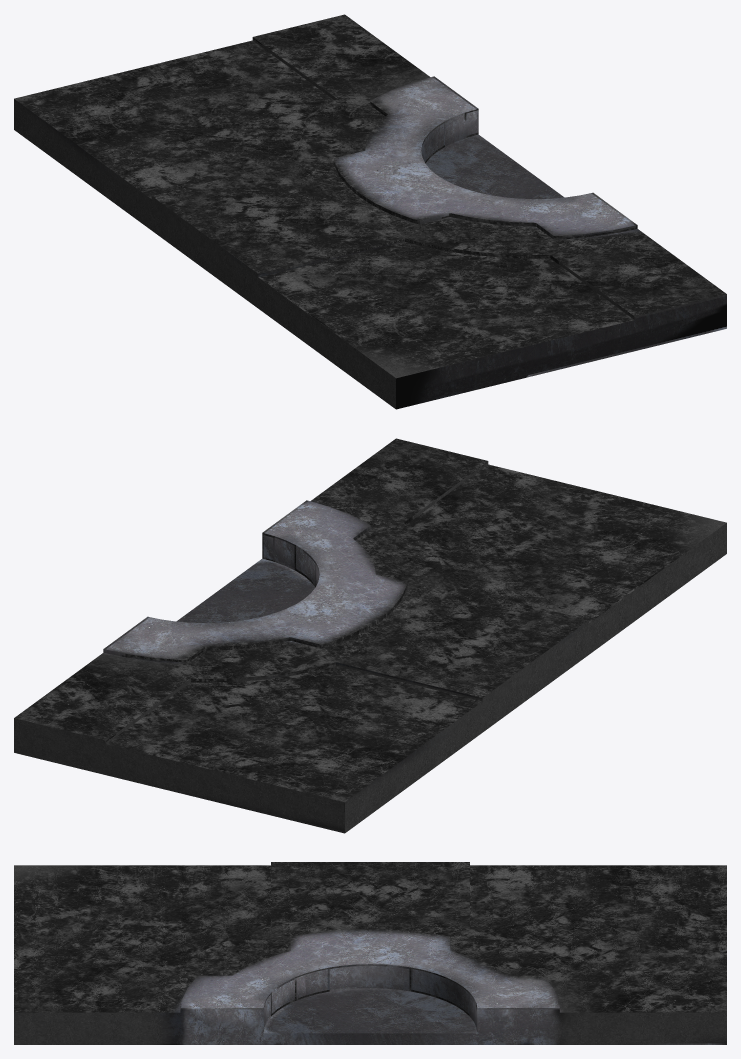
File: doorsub_zero.obj
The picture shows the model from 3 angles, top to bottom: view 1: azimuth 30°, elevation 25°; view 2: azimuth 150°, elevation 25°; view 3: azimuth 270°, elevation 25°; orthographic projection. The views are drawn at different scales.
Parts seen in each view (by area): view 1: doorsub_low_Cube.007; view 2: doorsub_low_Cube.007; view 3: doorsub_low_Cube.007.
Part boxes in pixels (box(x1,y1,x2,y2)): doorsub_low_Cube.007: box(14, 14, 726, 409); doorsub_low_Cube.007: box(14, 438, 726, 833); doorsub_low_Cube.007: box(14, 862, 726, 1044).
Bounding box in the file's own units: 0.2 × 0.0221 × 0.4.
